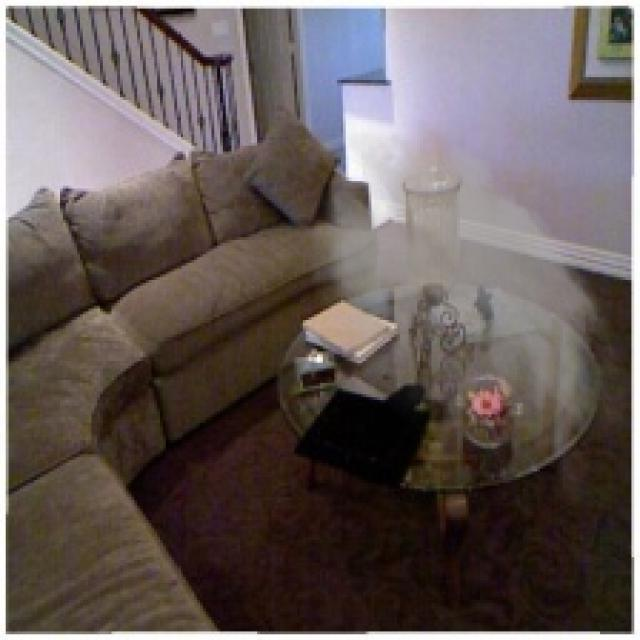Smoke: (292, 117, 637, 512)
